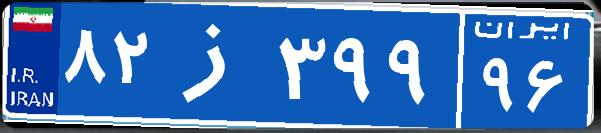2: (110, 28, 158, 105)
3: (273, 28, 330, 110)
6: (525, 38, 570, 115)
8: (57, 26, 110, 107)
9: (385, 28, 445, 110), (330, 28, 385, 110), (475, 38, 525, 113)
ز: (158, 15, 273, 115)
